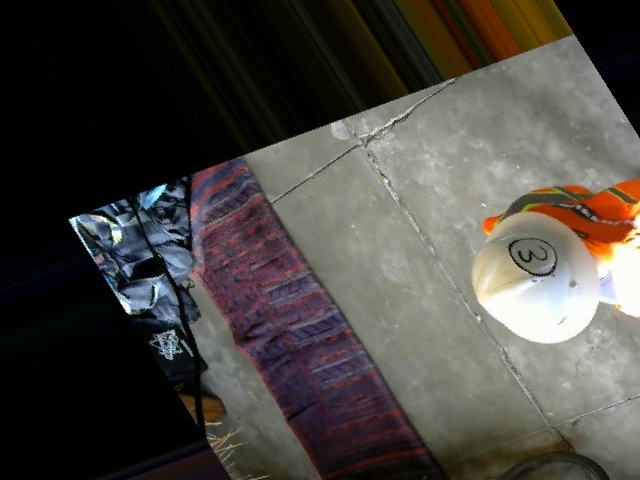three: (501, 229, 565, 284)
